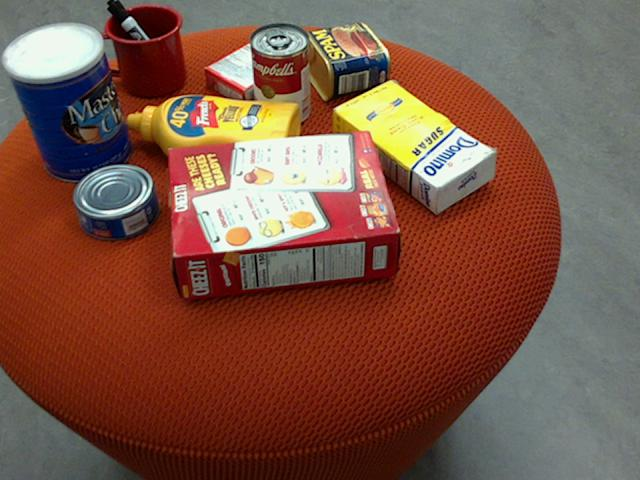cracker_box: (167, 129, 399, 298)
gelatin_box: (204, 39, 295, 106)
large_marker: (106, 0, 179, 85)
master_chef_can: (1, 22, 132, 182)
mug: (90, 5, 186, 97)
mustard_bottle: (127, 95, 300, 173)
potted_meat_can: (297, 23, 390, 101)
sugar_box: (332, 80, 497, 212)
tomato_soup_can: (249, 21, 310, 127)
tuna_fish_can: (72, 164, 159, 241)
